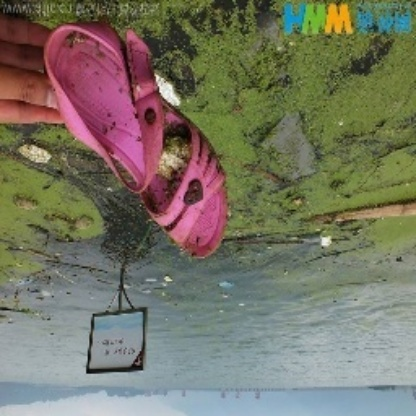plastic-garbage: (53, 20, 231, 257)
